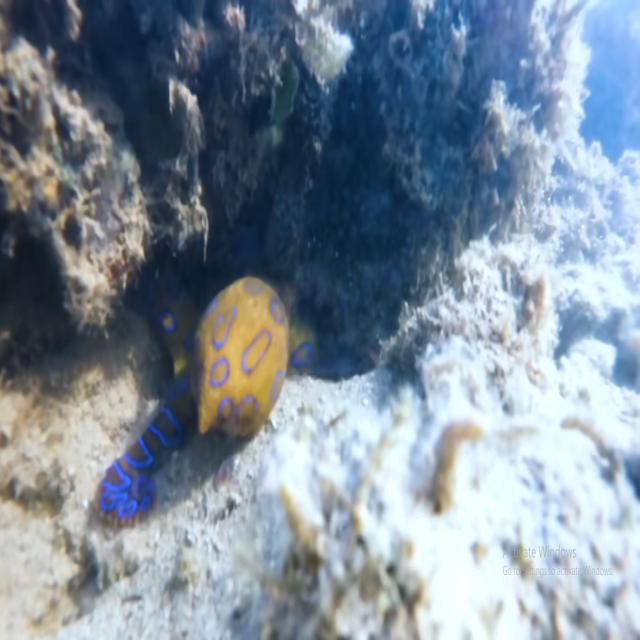blue_ringed_octopus: (92, 254, 321, 531)
